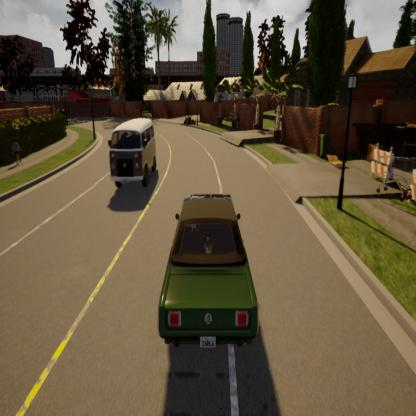Cars: (142, 179, 280, 356), (94, 88, 166, 196)
